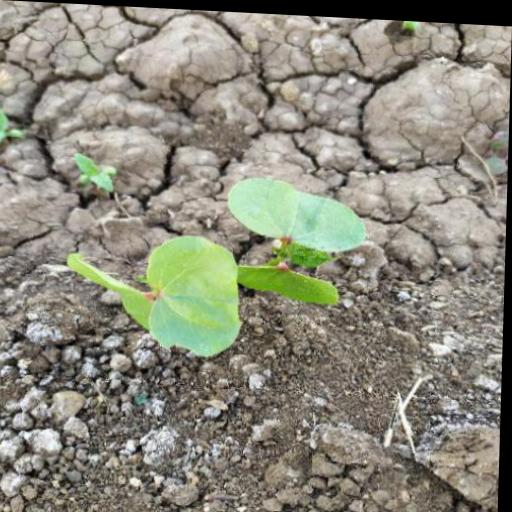weed: (60, 162, 371, 375)
